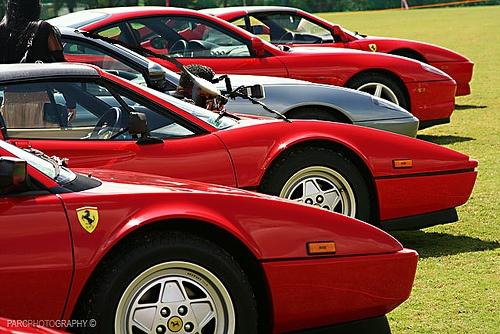tampered: (75, 31, 292, 123)
